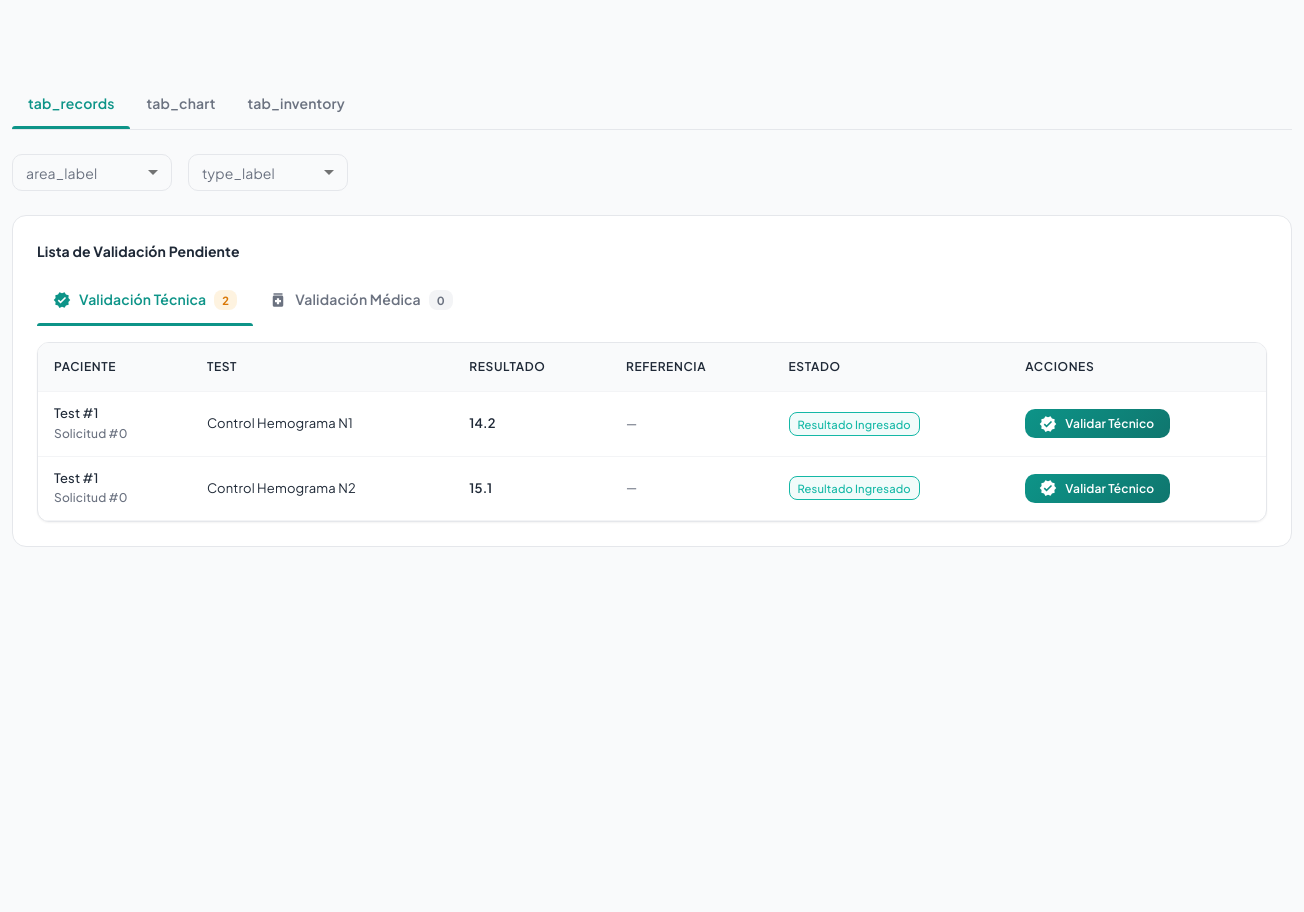
Test: LabQualityControlPage › switches to the control chart tab
What coordinates should you click on to do the following:
click the tab "tab_chart"
I would click on:
 (181, 104)
Its box is [130,82,232,126].
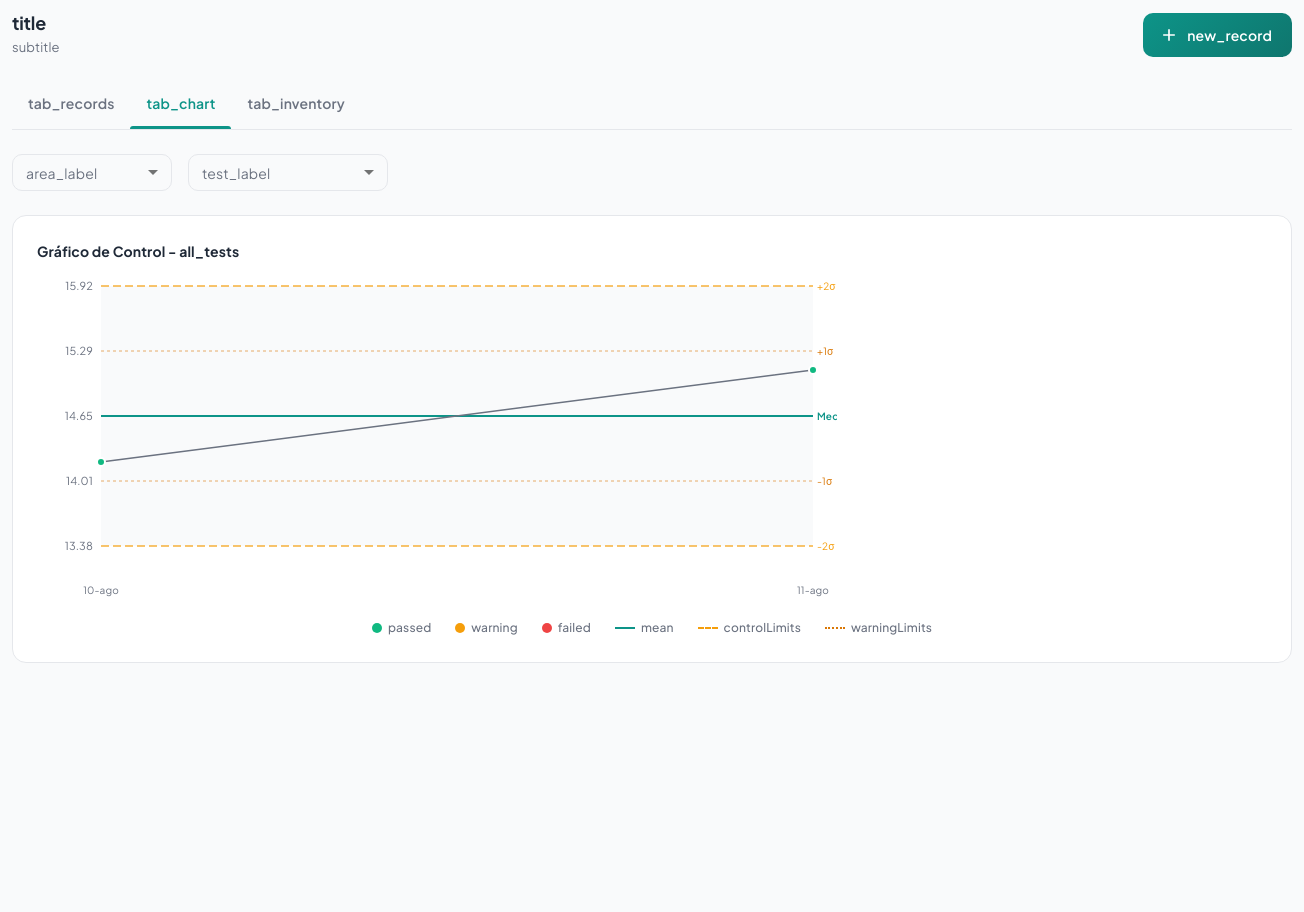
Result: the text "passed" is shown at [388,618,431,638]
Result: the text "failed" is shown at [558,618,591,638]
